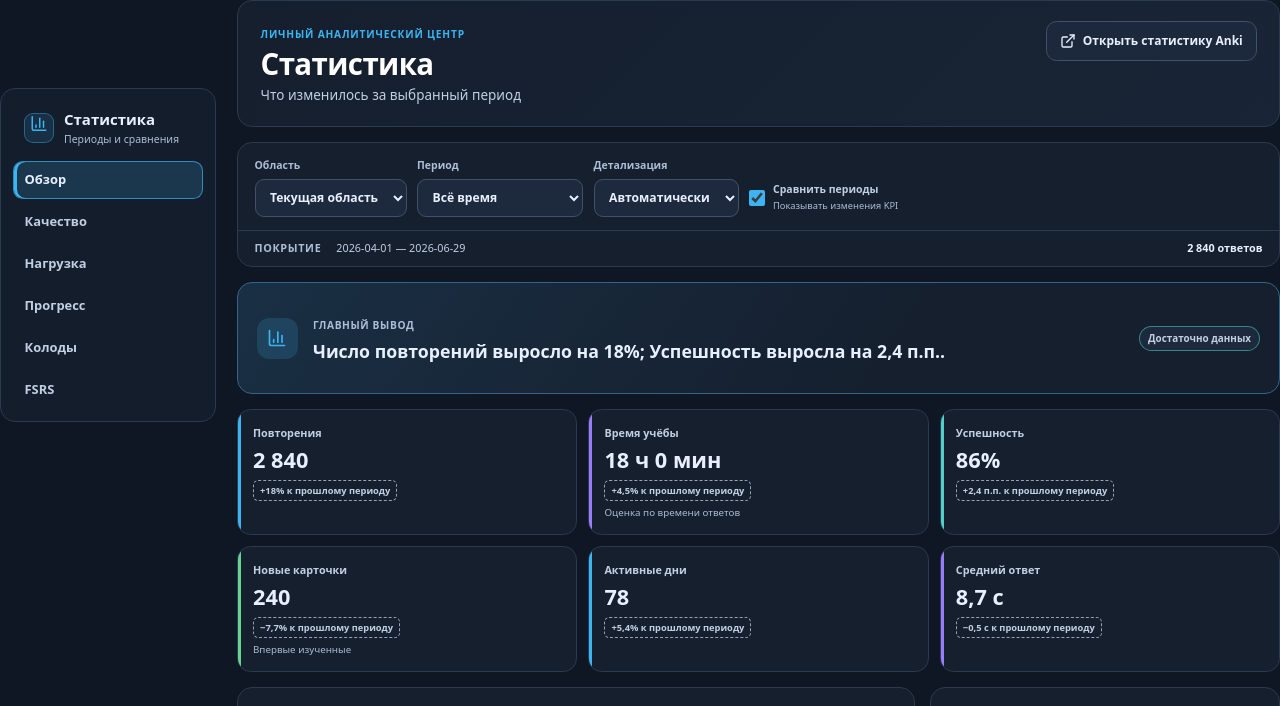
Test: Statistics visual system › changes period, explains disabled all-time comparison and sends a typed request
Select "Всё время" in the dropdown labelled "Период" at [500, 198], box [417,179,583,217]
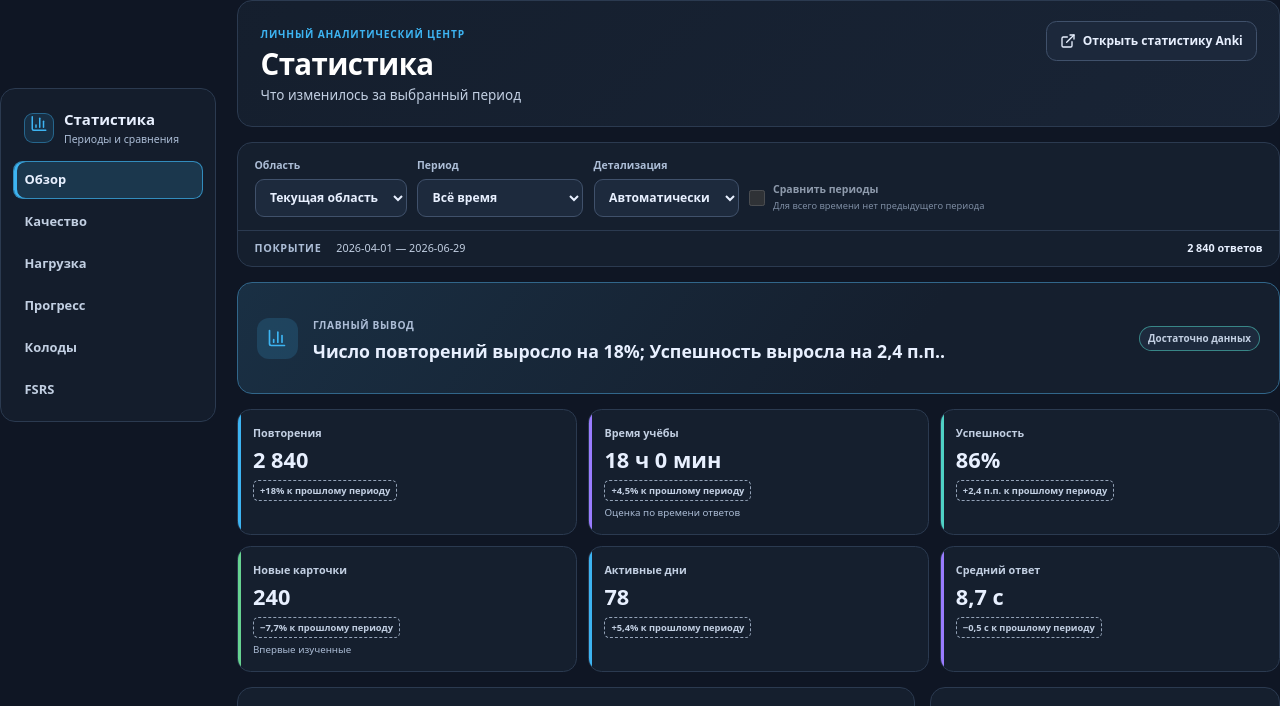
expect the checkbox labelled "Сравнить периоды Для всего времени нет предыдущего периода" is disabled: met, box [749,190,765,206]
expect the checkbox labelled "Сравнить периоды Для всего времени нет предыдущего периода" is not checked: met, box [749,190,765,206]
expect the text "Для всего времени нет предыдущего периода" is shown: met, box [773,199,984,213]
